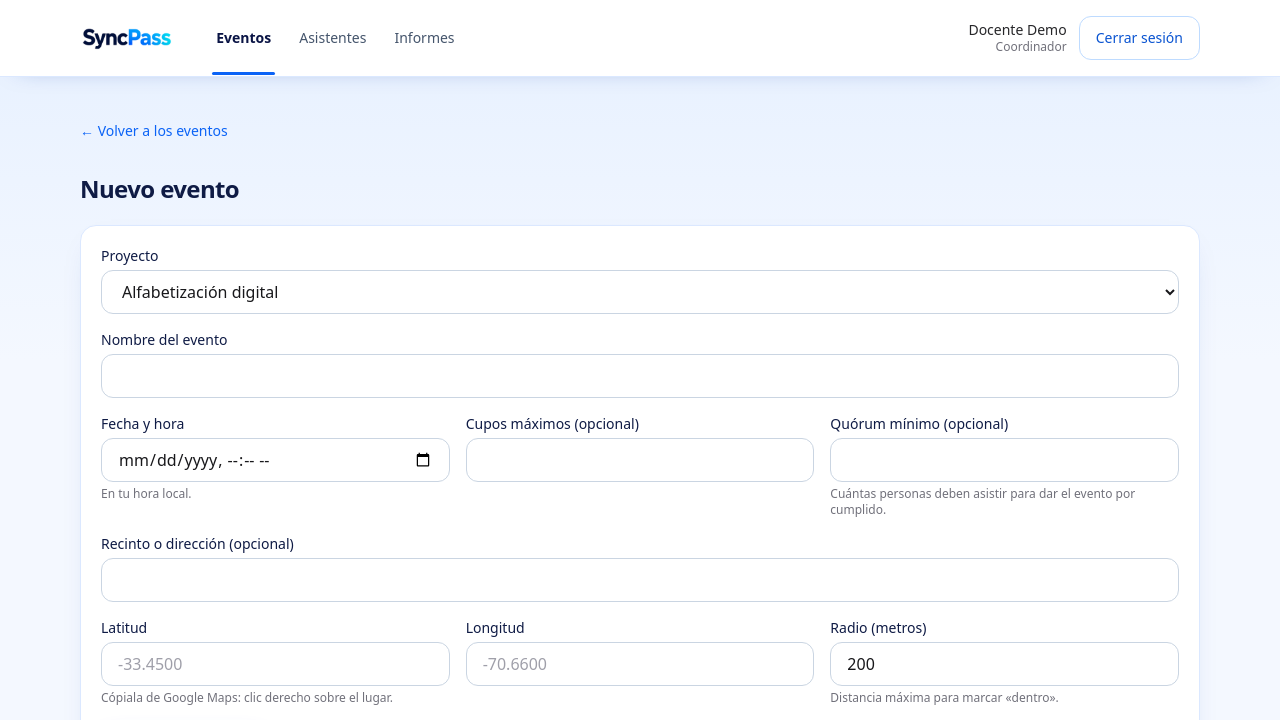
Test case: formulario de evento › rechaza una latitud fuera de rango antes de enviar
Type "Taller" into the field labelled "Nombre del evento" at [640, 376], box [101, 354, 1179, 398]
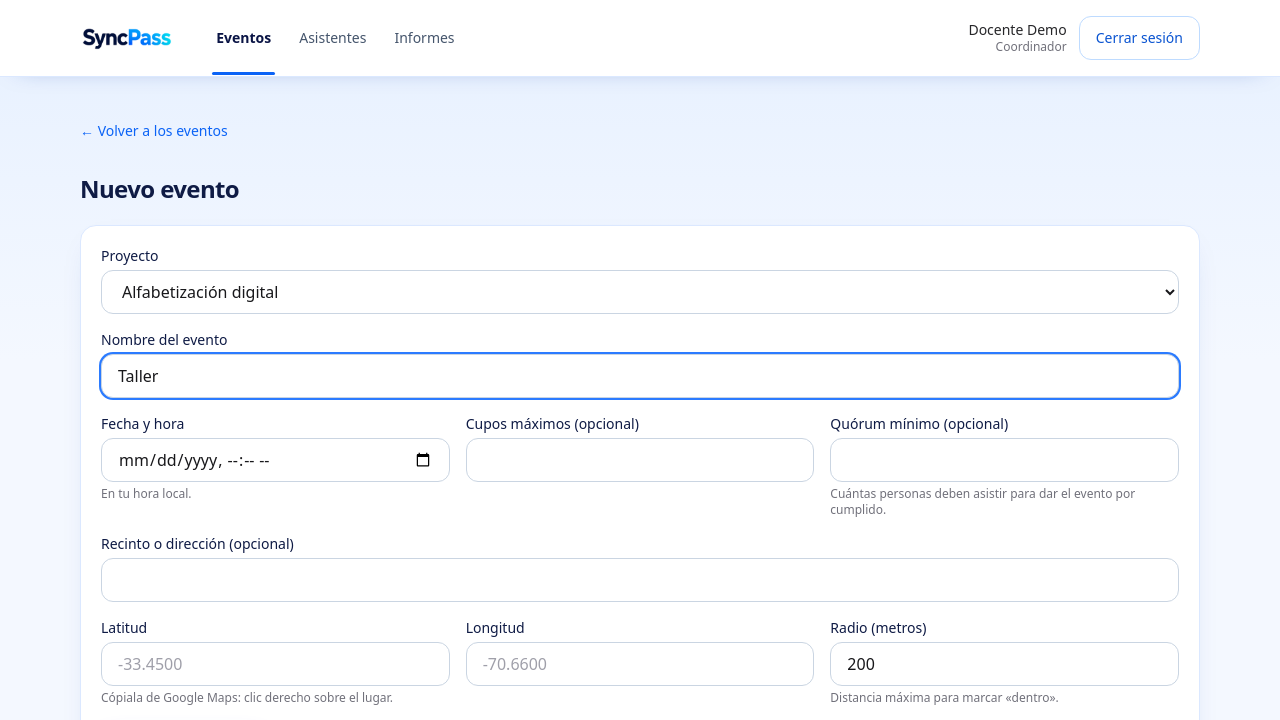
Type "2026-11-20T15:00" into the field labelled "Fecha y hora" at [275, 460], box [101, 438, 450, 482]
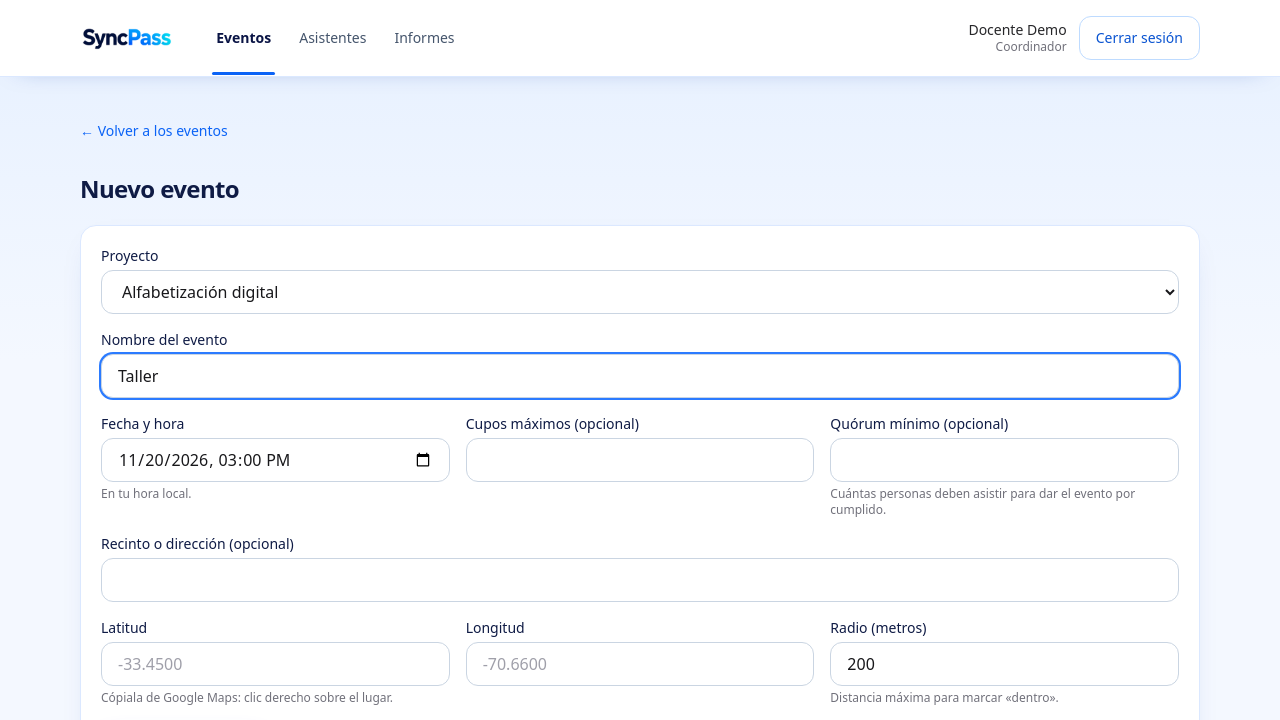
Type "95" into the field labelled "Latitud" at [275, 664], box [101, 642, 450, 686]
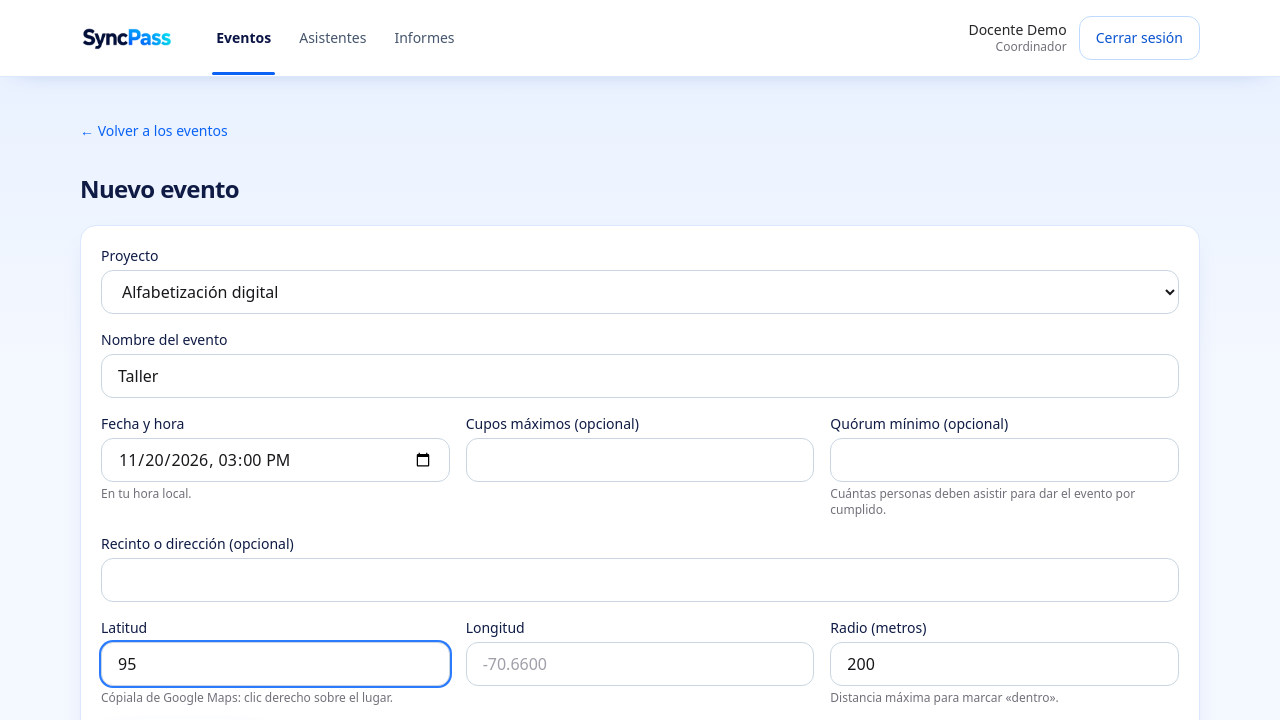
Type "-70" into the field labelled "Longitud" at [640, 664], box [466, 642, 814, 686]
(page scrolled)
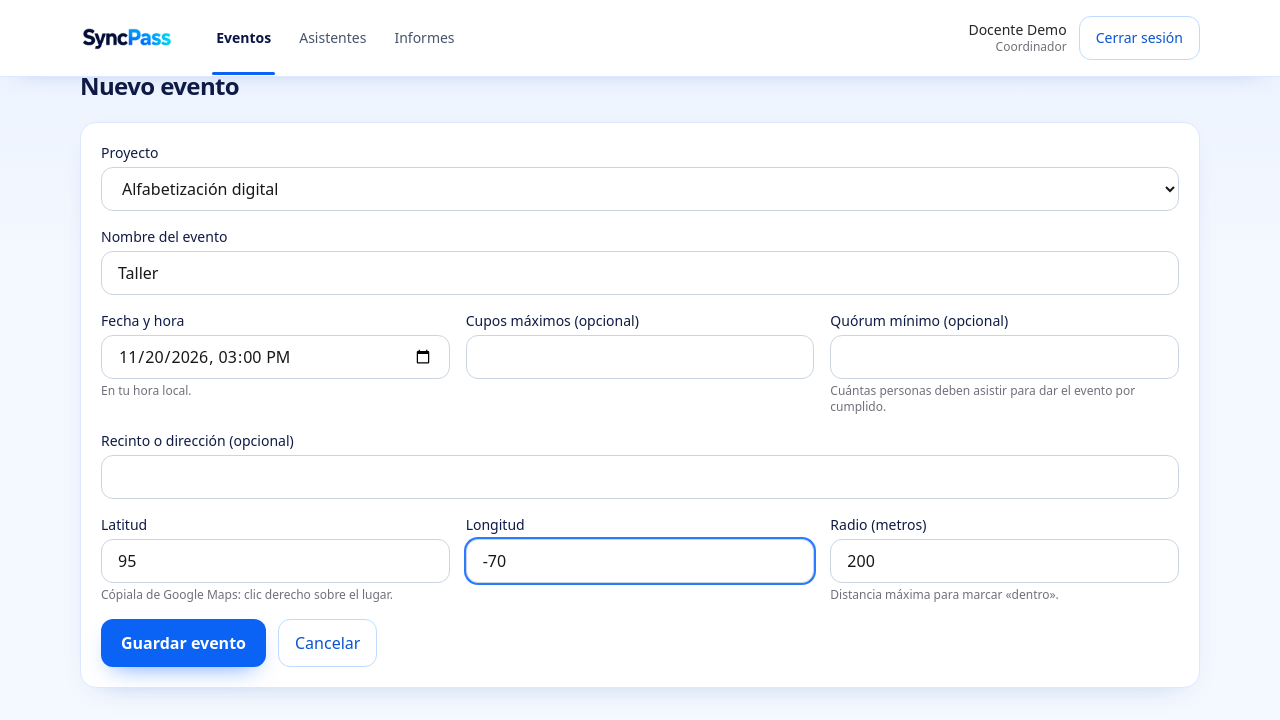
Click the button "Guardar evento" at [184, 643], box [101, 619, 266, 667]
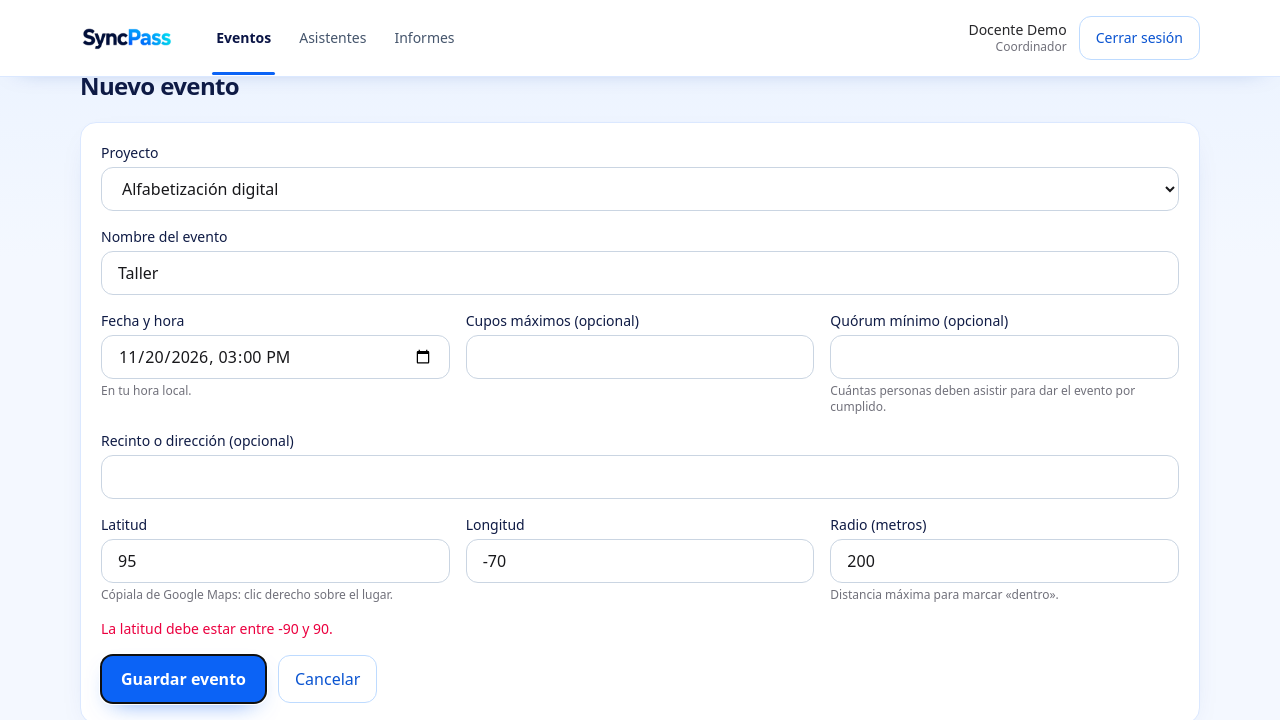
Result: the message shows "entre -90 y 90" at [101, 619, 333, 638]
